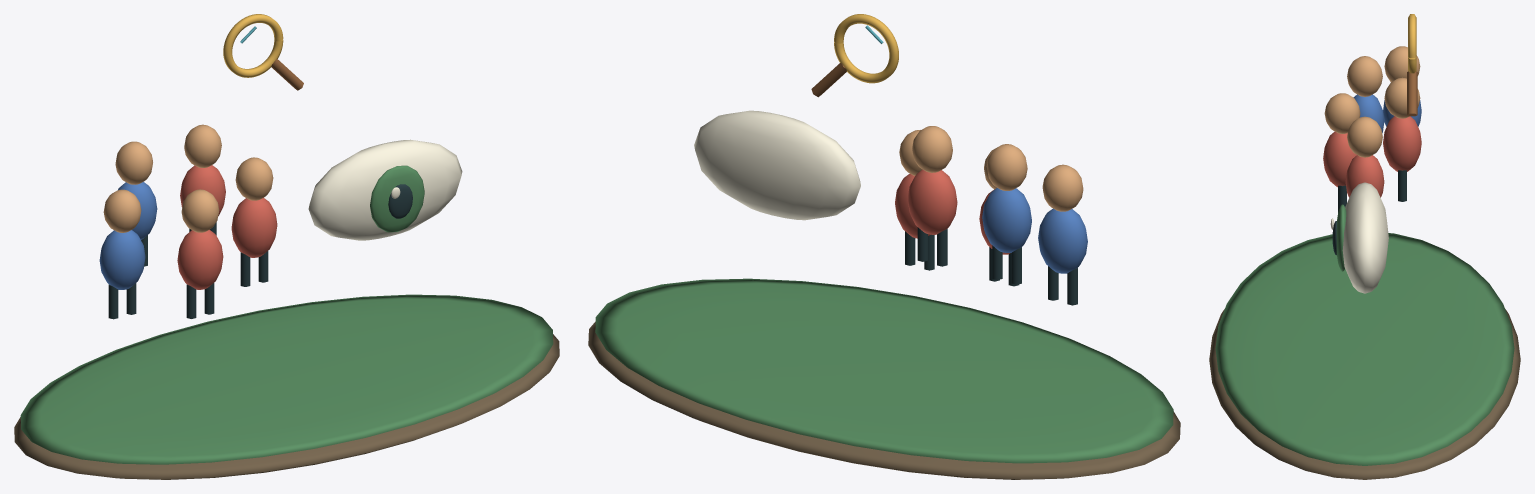
The model's file is complete-third-join-and-observe.glb.
3 renders of one model, left to right at view 1: azimuth 30°, elevation 25°; view 2: azimuth 150°, elevation 25°; view 3: azimuth 270°, elevation 25°, orthographic. The views are drawn at different scales.
Parts seen in each view (by area): view 1: complete-third-join-and-observe_surface_01, complete-third-join-and-observe_surface_00, complete-third-join-and-observe_surface_06, complete-third-join-and-observe_surface_02, complete-third-join-and-observe_surface_05, complete-third-join-and-observe_surface_03, complete-third-join-and-observe_surface_04, complete-third-join-and-observe_surface_07; view 2: complete-third-join-and-observe_surface_01, complete-third-join-and-observe_surface_06, complete-third-join-and-observe_surface_00, complete-third-join-and-observe_surface_02, complete-third-join-and-observe_surface_03, complete-third-join-and-observe_surface_05, complete-third-join-and-observe_surface_04, complete-third-join-and-observe_surface_07; view 3: complete-third-join-and-observe_surface_01, complete-third-join-and-observe_surface_00, complete-third-join-and-observe_surface_02, complete-third-join-and-observe_surface_05, complete-third-join-and-observe_surface_06, complete-third-join-and-observe_surface_03, complete-third-join-and-observe_surface_04, complete-third-join-and-observe_surface_07, complete-third-join-and-observe_surface_08.
Boxes of the visible parts, x1,y1,x2,y2 form: complete-third-join-and-observe_surface_01: (20,165,553,464); complete-third-join-and-observe_surface_00: (14,334,559,479); complete-third-join-and-observe_surface_06: (308,139,462,240); complete-third-join-and-observe_surface_02: (103,124,273,232); complete-third-join-and-observe_surface_05: (177,165,277,289); complete-third-join-and-observe_surface_03: (99,182,157,289); complete-third-join-and-observe_surface_04: (108,184,412,319); complete-third-join-and-observe_surface_07: (223,14,283,77); complete-third-join-and-observe_surface_01: (595,278,1173,463); complete-third-join-and-observe_surface_06: (694,110,860,220); complete-third-join-and-observe_surface_00: (588,321,1180,479); complete-third-join-and-observe_surface_02: (899,126,1083,211); complete-third-join-and-observe_surface_03: (982,188,1087,273); complete-third-join-and-observe_surface_05: (895,169,1010,254); complete-third-join-and-observe_surface_04: (905,227,1077,305); complete-third-join-and-observe_surface_07: (834,14,898,83); complete-third-join-and-observe_surface_01: (1215,204,1514,465); complete-third-join-and-observe_surface_00: (1209,309,1520,479); complete-third-join-and-observe_surface_02: (1324,46,1420,157); complete-third-join-and-observe_surface_05: (1323,116,1421,197); complete-third-join-and-observe_surface_06: (1330,182,1388,293); complete-third-join-and-observe_surface_03: (1353,94,1421,132); complete-third-join-and-observe_surface_04: (1332,170,1406,255); complete-third-join-and-observe_surface_07: (1408,14,1416,73); complete-third-join-and-observe_surface_08: (1407,71,1417,116).
Bounding box in the file's own units: 4.56 × 3.13 × 2.5.
